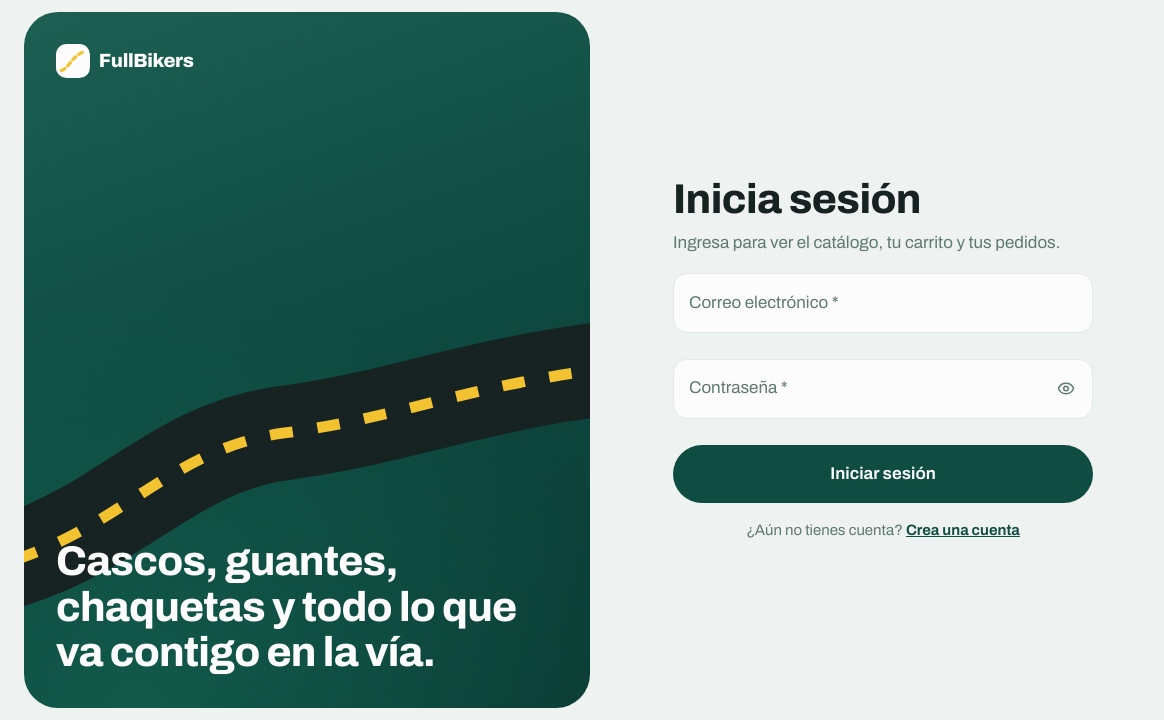
Test case: autenticación › valida el formulario antes de enviar
The image size is (1164, 720).
Click the button "Iniciar sesión": (883, 474) 673,445 -> 1093,503
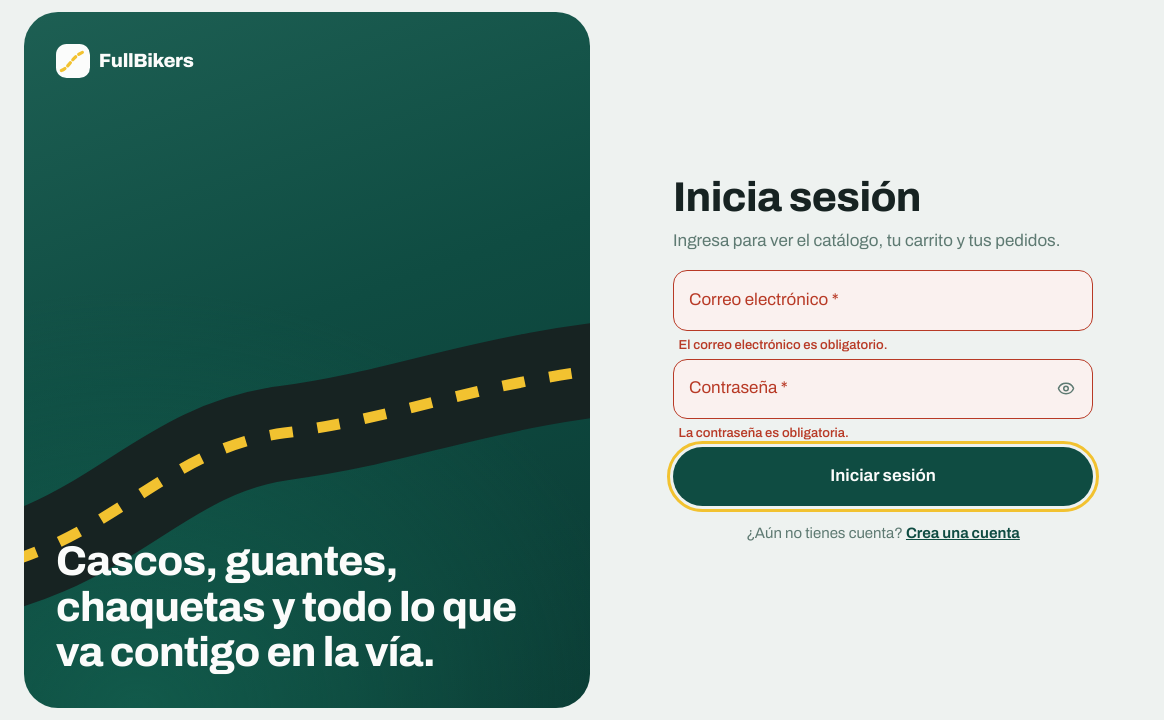
Expected: the text "El correo electrónico es obligatorio." is shown, 679,334 -> 888,355
